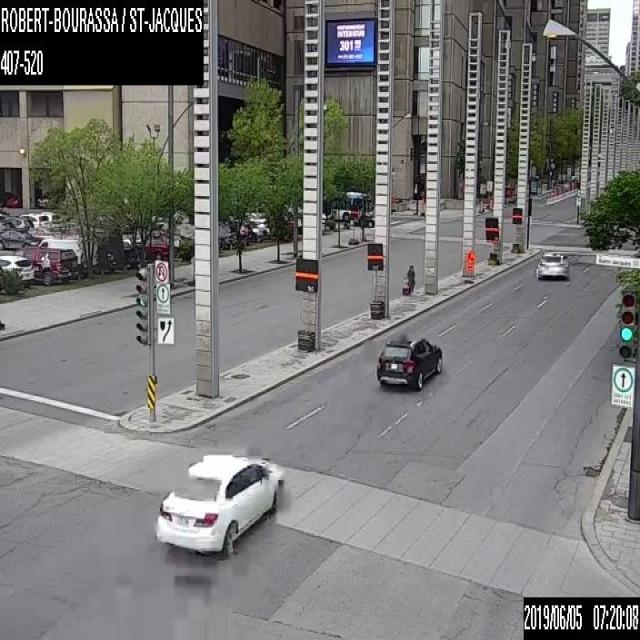bus: (323, 190, 370, 222)
construction: (464, 248, 474, 280)
pedestrian: (236, 218, 248, 250), (401, 264, 414, 293)
vehicle: (154, 454, 284, 554), (374, 335, 441, 388), (12, 245, 76, 286), (37, 237, 97, 280), (90, 227, 123, 274), (0, 254, 34, 286), (0, 227, 41, 249), (536, 250, 566, 278), (140, 230, 168, 260), (2, 215, 33, 230), (19, 212, 48, 227), (40, 210, 62, 229), (36, 190, 58, 208), (6, 192, 22, 208), (0, 220, 15, 231)
